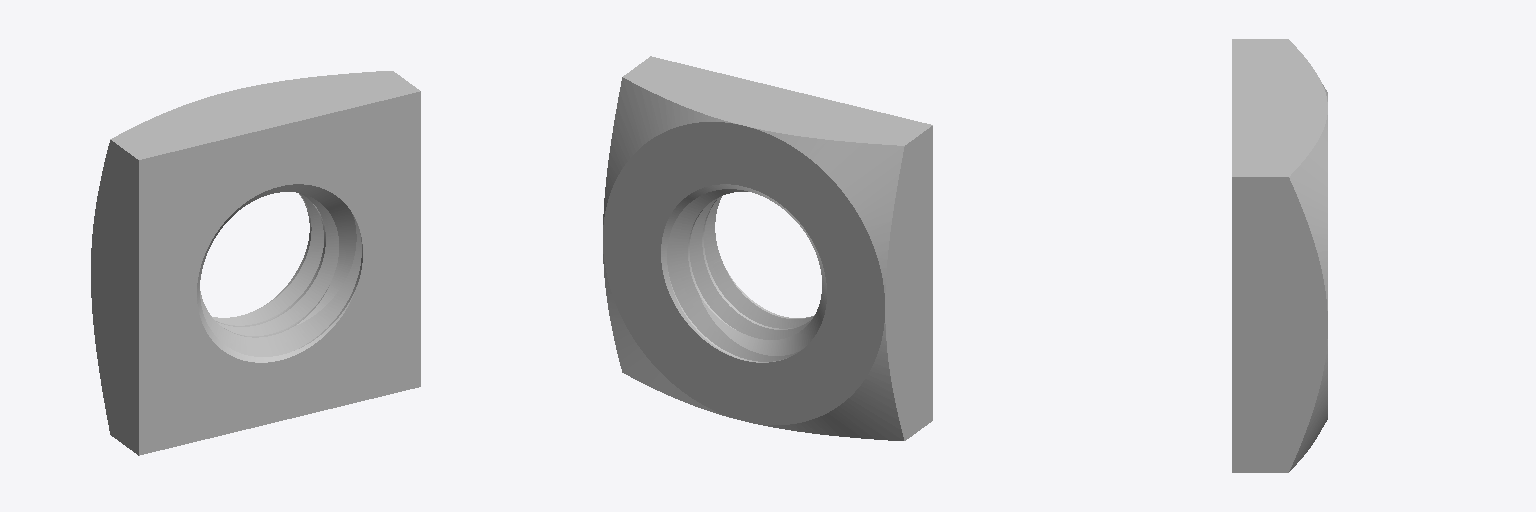
File: model8_nut.obj
3 renders of one model, left to right at view 1: azimuth 30°, elevation 25°; view 2: azimuth 150°, elevation 25°; view 3: azimuth 270°, elevation 25°, orthographic.
Bounding box in the file's own units: 0.6693 × 0.6693 × 0.1969.